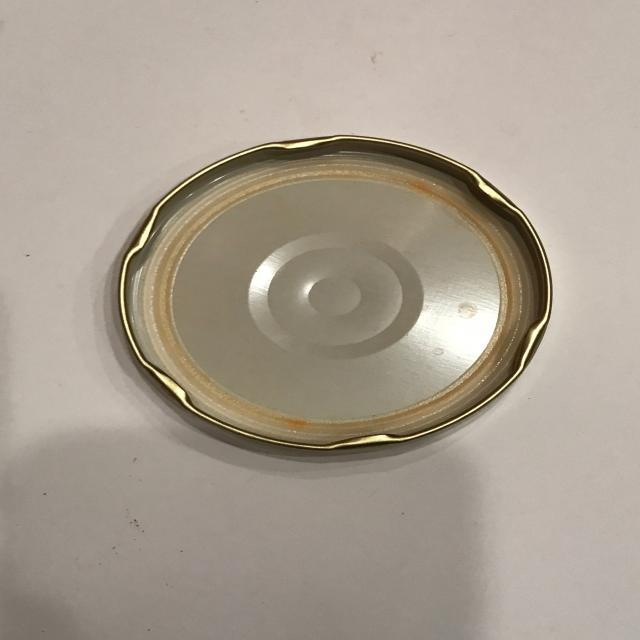metal: (114, 134, 556, 457)
